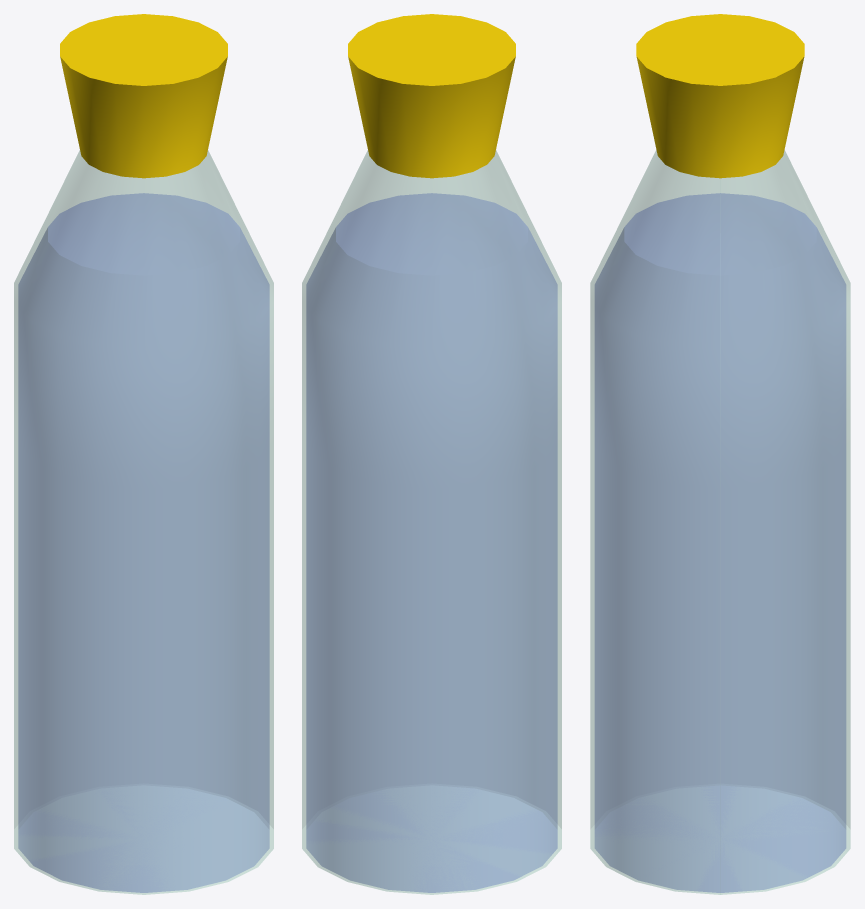
File: Anethesia Cart - Bottle Yellow S.FBX
3 renders of one model, left to right at view 1: azimuth 30°, elevation 25°; view 2: azimuth 150°, elevation 25°; view 3: azimuth 270°, elevation 25°, orthographic.
Visible parts, largest first — view 1: BottleBlue011; view 2: BottleBlue011; view 3: BottleBlue011.
Part boxes in pixels (<box>): BottleBlue011: <box>14,14,273,894</box>; BottleBlue011: <box>302,14,561,894</box>; BottleBlue011: <box>590,14,850,894</box>.
Bounding box in the file's own units: 1.91 × 6.29 × 1.88.
